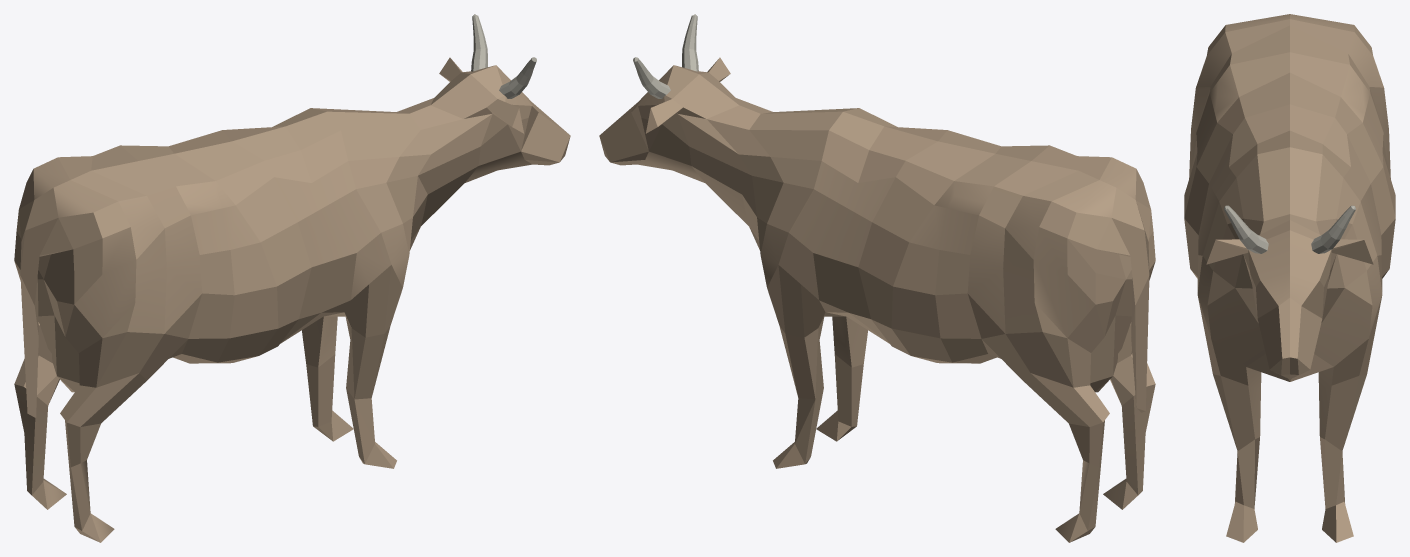
The model's file is cow.fbx.
The picture shows the model from 3 angles, left to right: view 1: azimuth 30°, elevation 25°; view 2: azimuth 150°, elevation 25°; view 3: azimuth 270°, elevation 25°; orthographic projection. The views are drawn at different scales.
Parts seen in each view (by area): view 1: grp4; view 2: grp4; view 3: grp4.
Boxes of the visible parts, x1=… form: grp4: x1=14, y1=14, x2=570, y2=542; grp4: x1=599, y1=14, x2=1155, y2=542; grp4: x1=1184, y1=14, x2=1395, y2=542.
Size of the model in its own units: 24.88 by 7.77 by 16.45.
